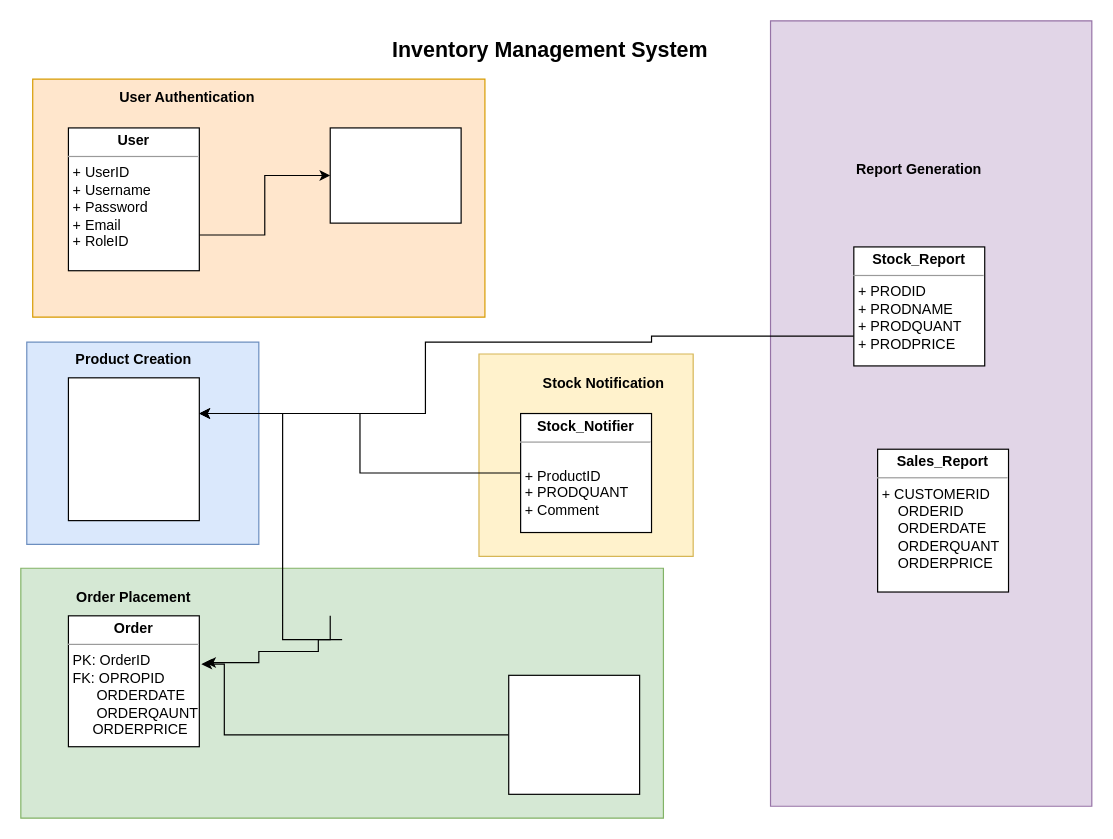
Some shapes in this 1113 by 839 pixel diagram are drawn without their labels. The centre of each missing label's shape, as x and y in pixels:
Order_History + HistoryID + OrderID + Date + Comment: point 574,734
Product PK: ProdID ProdName ProdDesc ProdPrice ProdQty: point 133,449
User + RoleID + RoleName: point 395,175
